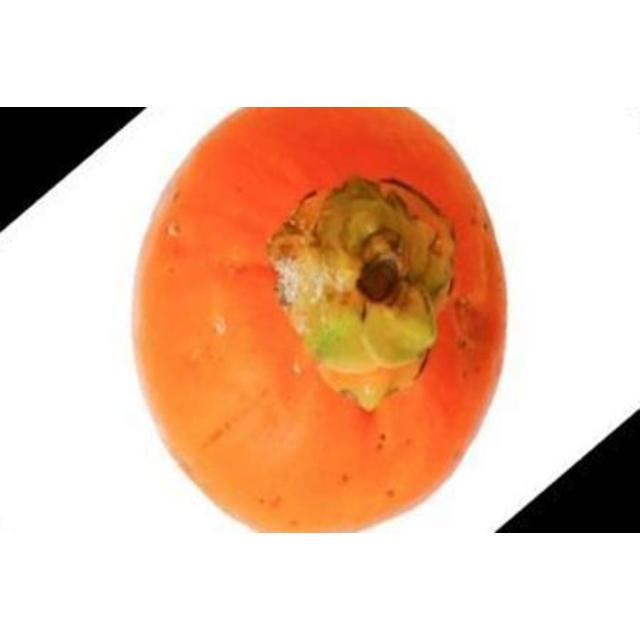good: (144, 107, 506, 532)
